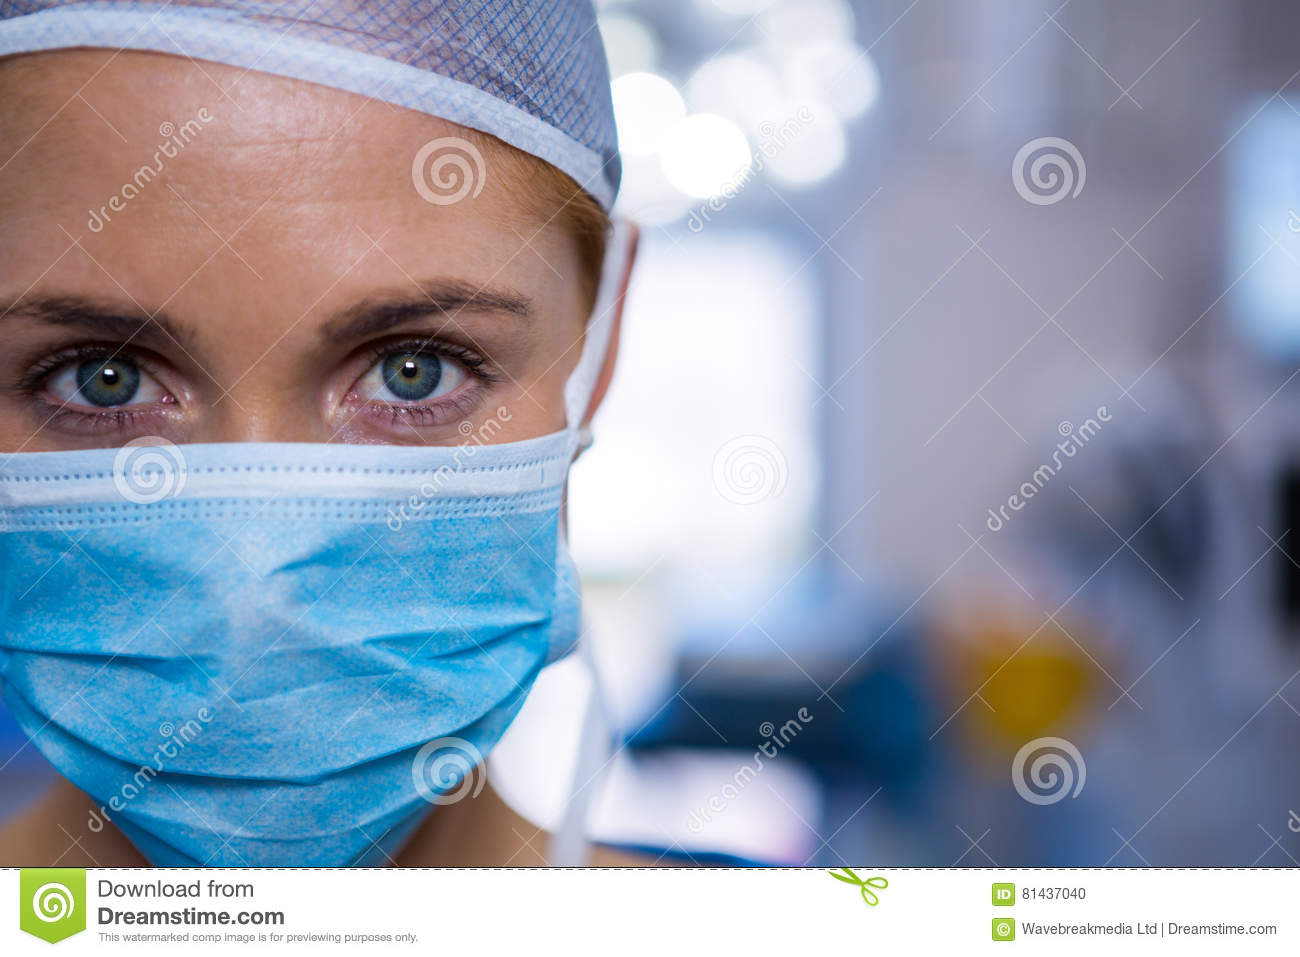mask: (1, 455, 594, 866)
